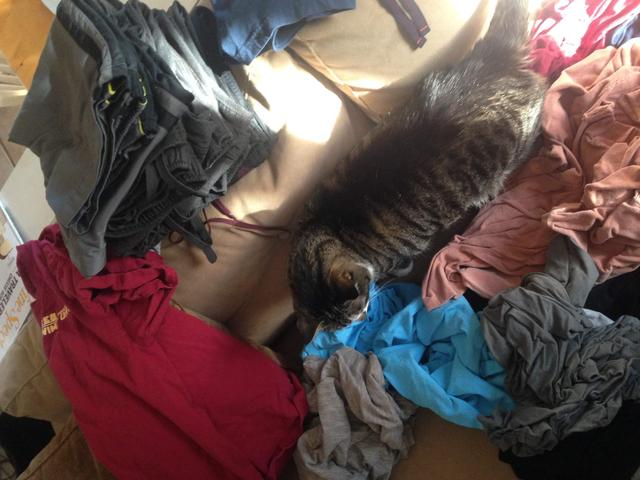playdoh: (282, 1, 546, 327)
